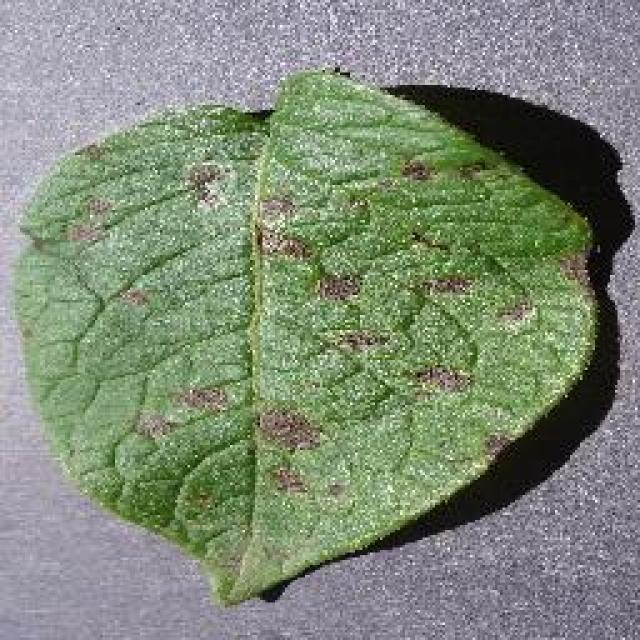Potato___Early_blight: (10, 62, 604, 614)
